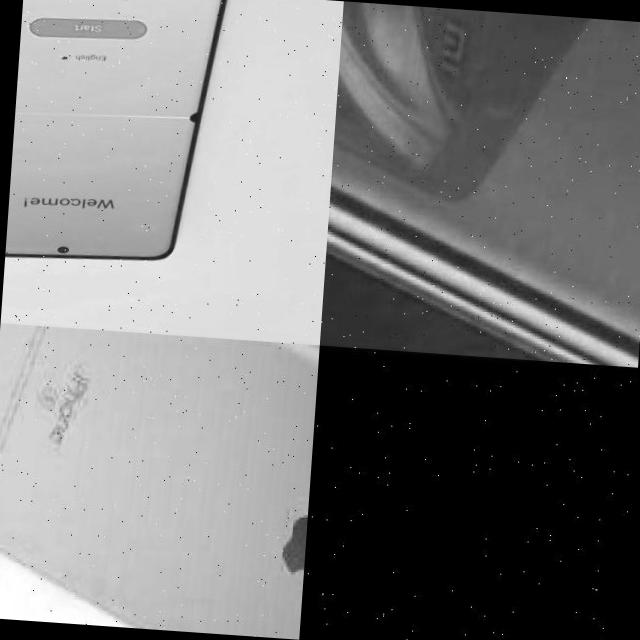dead pixel: (178, 98, 224, 140)
